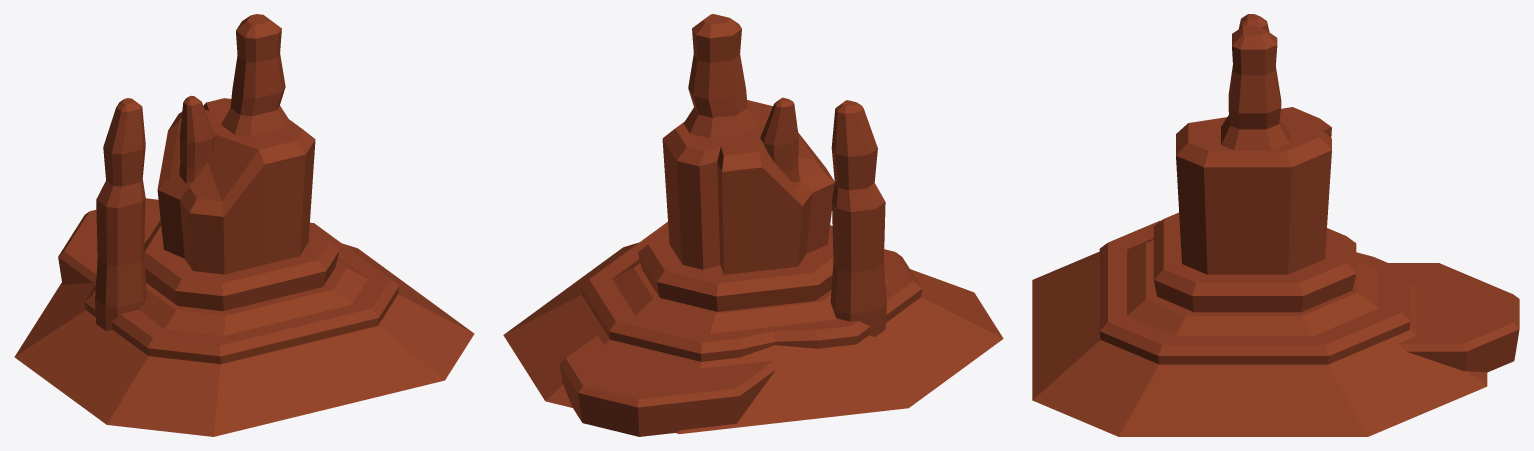
File: Rock4_3.fbx
The picture shows the model from 3 angles, left to right: view 1: azimuth 30°, elevation 25°; view 2: azimuth 150°, elevation 25°; view 3: azimuth 270°, elevation 25°; orthographic projection. The views are drawn at different scales.
Visible parts, largest first — view 1: Plane.001; view 2: Plane.001; view 3: Plane.001.
Boxes of the visible parts, bbox=[...] form: Plane.001: bbox=[14, 14, 474, 436]; Plane.001: bbox=[503, 14, 1003, 436]; Plane.001: bbox=[1032, 14, 1519, 436].
Bounding box in the file's own units: 7089 × 5606 × 7591.
